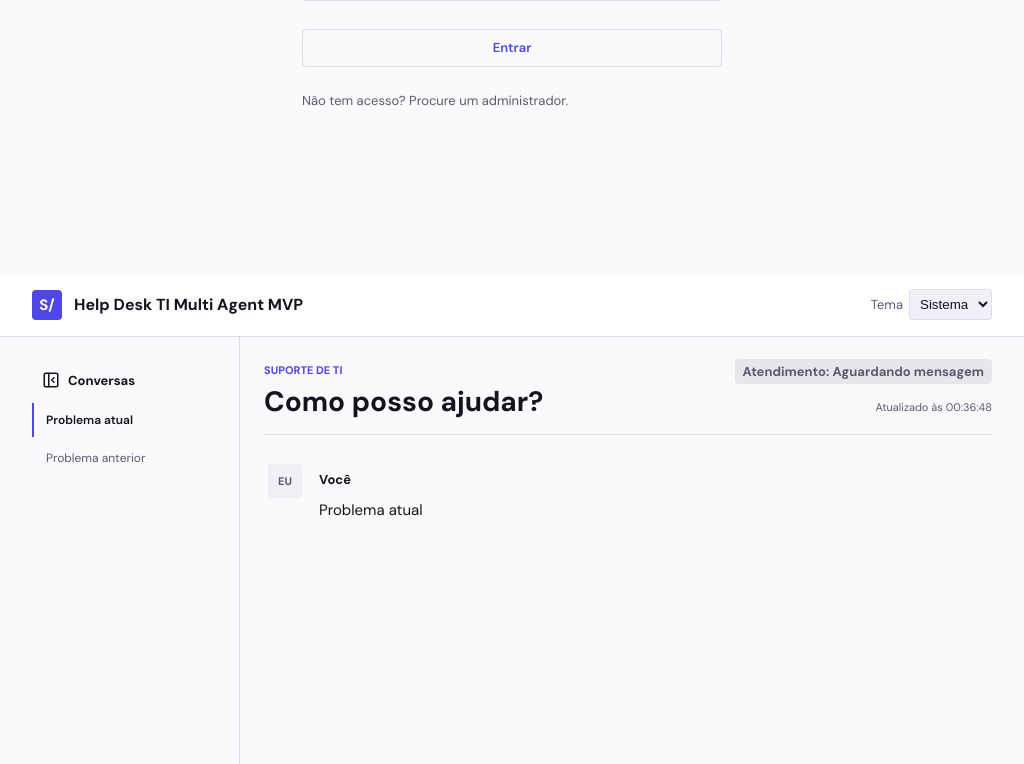
Test: shows the first message of other saved conversations without opening them
(page scrolled)
Expected: the button "Problema anterior" is shown, 32,441 -> 227,475
Expected: the button "Problema atual" is shown, 32,403 -> 227,437
Step 1. Click the button with aria-label "Recolher conversas" → click(130, 380), box 32,361 -> 227,399
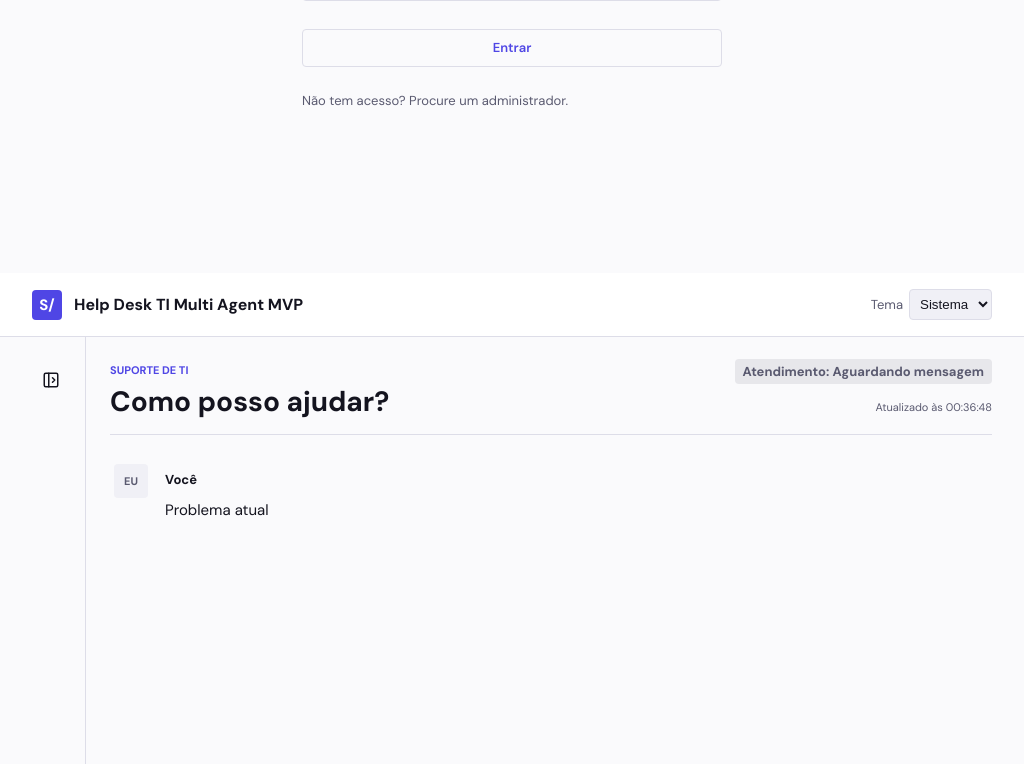
Expected: the button "Problema anterior" is gone
Expected: the button named "Mostrar conversas" is shown, 32,361 -> 73,399
